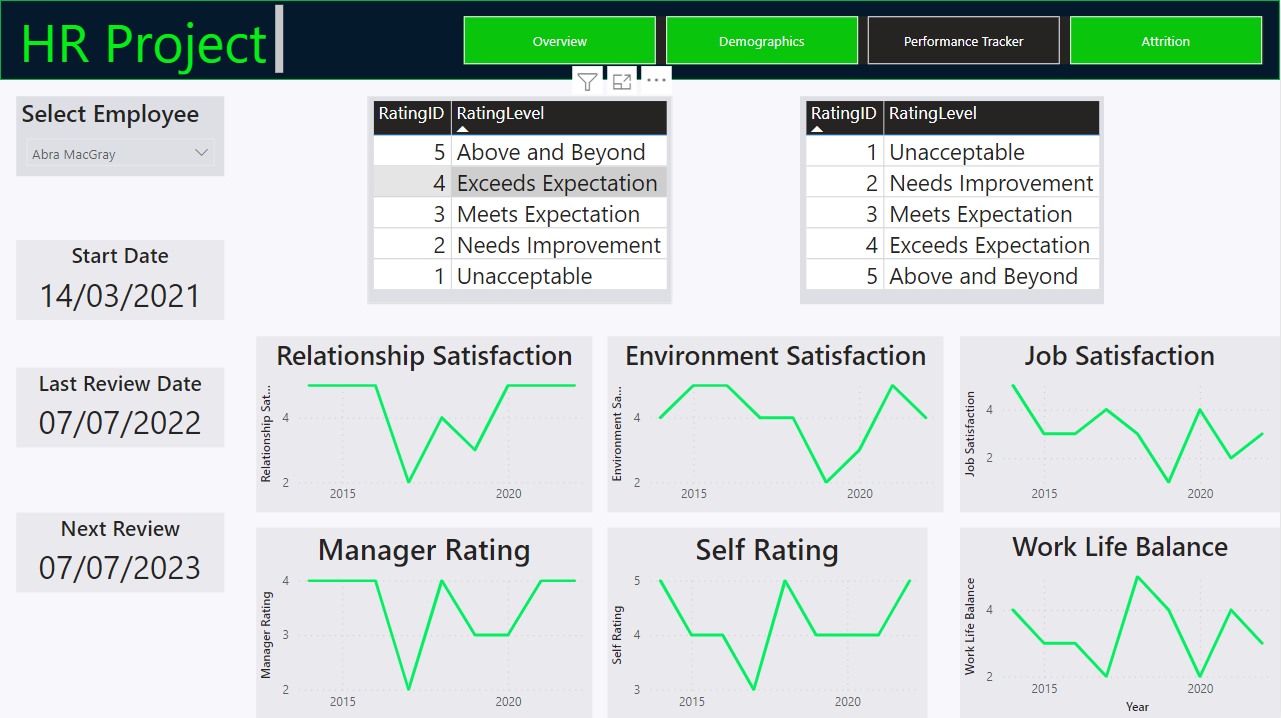

The dashboard page shown, as its layout file describes it:
{"tool":"powerbi","page":{"name":"Performance Tracker","canvas":[1280,720],"ordinal":2},"visuals":[{"type":"shape","box":[0,0.3,1280,79.7],"z":0,"group":"g1"},{"type":"slicer","title":"Select Employee","fields":{"Values":["DimEmployee.FullName"]},"box":[16,96,208,80],"z":0},{"type":"textbox","box":[0,0,288,79.7],"z":1000,"group":"g1"},{"type":"card","title":"Start Date","fields":{"Values":["Min(DimEmployee.HireDate)"]},"box":[16,240,208,80],"z":1000},{"type":"card","title":"Last Review Date","fields":{"Values":["_Measures.Last Review Date"]},"box":[16,368,208,80],"z":2000},{"type":"card","title":"Next Review","fields":{"Values":["_Measures.Next Review Date"]},"box":[16,512,208,80],"z":3000},{"type":"group","id":"g1","title":"Group 1","box":[0,0,1280,80],"z":4000,"group":"g2"},{"type":"lineChart","title":"Environment Satisfaction","fields":{"Y":["_Measures.Environment Satisfaction"],"Category":["DimDate.Year"]},"box":[608,336,336,176],"z":4000},{"type":"lineChart","title":"Relationship Satisfaction","fields":{"Y":["_Measures.Relationship Satisfaction"],"Category":["DimDate.Year"]},"box":[256,336,336,176],"z":5000},{"type":"lineChart","title":"Work Life Balance","fields":{"Y":["_Measures.Work Life Balance"],"Category":["DimDate.Year"]},"box":[960,528,320,192],"z":6000},{"type":"pageNavigator","box":[464,16,800,48],"z":7000,"group":"g2"},{"type":"lineChart","title":"Manager Rating","fields":{"Y":["_Measures.Manager Rating"],"Category":["DimDate.Date.Variation.Date Hierarchy.Year"]},"box":[256,528,336,192],"z":7000},{"type":"lineChart","title":"Self Rating","fields":{"Category":["DimDate.Date.Variation.Date Hierarchy.Year"],"Y":["_Measures.Self Rating"]},"box":[608,528,320,192],"z":8000},{"type":"tableEx","fields":{"Values":["DimRatingLevel.RatingID","DimRatingLevel.RatingLevel"]},"box":[800,96,304,208],"z":9000},{"type":"group","id":"g2","title":"Group 2","box":[0,0,1280,80],"z":10000},{"type":"lineChart","title":"Job Satisfaction","fields":{"Y":["_Measures.Job Satisfaction"],"Category":["DimDate.Year"]},"box":[960,336,320,176],"z":11000},{"type":"tableEx","fields":{"Values":["DimRatingLevel.RatingID","DimRatingLevel.RatingLevel"]},"box":[368,96,304,208],"z":12000}]}

Visuals, with their boxes in screenshot pixels (x1, y1, x2, y2), scaled from the page's 1280x720 canvas onto the 1281x718 screenshot:
shape: {"left": 0, "top": 0, "right": 1280, "bottom": 80}
"Select Employee" slicer: {"left": 16, "top": 96, "right": 224, "bottom": 176}
textbox: {"left": 0, "top": 0, "right": 288, "bottom": 79}
"Start Date" card: {"left": 16, "top": 239, "right": 224, "bottom": 319}
"Last Review Date" card: {"left": 16, "top": 367, "right": 224, "bottom": 447}
"Next Review" card: {"left": 16, "top": 511, "right": 224, "bottom": 590}
"Group 1" group: {"left": 0, "top": 0, "right": 1280, "bottom": 80}
"Environment Satisfaction" lineChart: {"left": 608, "top": 335, "right": 945, "bottom": 511}
"Relationship Satisfaction" lineChart: {"left": 256, "top": 335, "right": 592, "bottom": 511}
"Work Life Balance" lineChart: {"left": 961, "top": 527, "right": 1280, "bottom": 717}
pageNavigator: {"left": 464, "top": 16, "right": 1265, "bottom": 64}
"Manager Rating" lineChart: {"left": 256, "top": 527, "right": 592, "bottom": 717}
"Self Rating" lineChart: {"left": 608, "top": 527, "right": 929, "bottom": 717}
tableEx - DimRatingLevel.RatingID x DimRatingLevel.RatingLevel: {"left": 801, "top": 96, "right": 1105, "bottom": 303}
"Group 2" group: {"left": 0, "top": 0, "right": 1280, "bottom": 80}
"Job Satisfaction" lineChart: {"left": 961, "top": 335, "right": 1280, "bottom": 511}
tableEx - DimRatingLevel.RatingID x DimRatingLevel.RatingLevel: {"left": 368, "top": 96, "right": 673, "bottom": 303}
